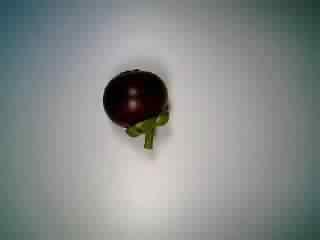mangosteen: (102, 64, 176, 150)
